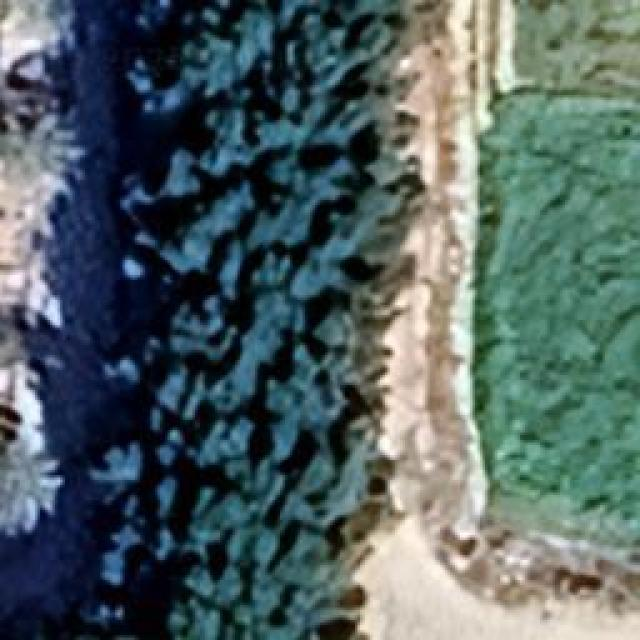PalmTree: (0, 407, 62, 534), (40, 30, 80, 88)
